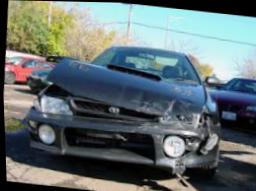Bonnet: (38, 55, 205, 116)
Bumper: (125, 121, 218, 173)
Light: (154, 112, 201, 126)
